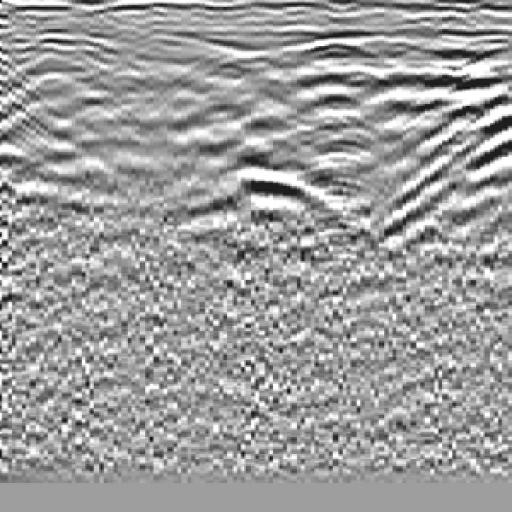metalic: (188, 52, 349, 273)
nonmetalic: (388, 27, 512, 264)
